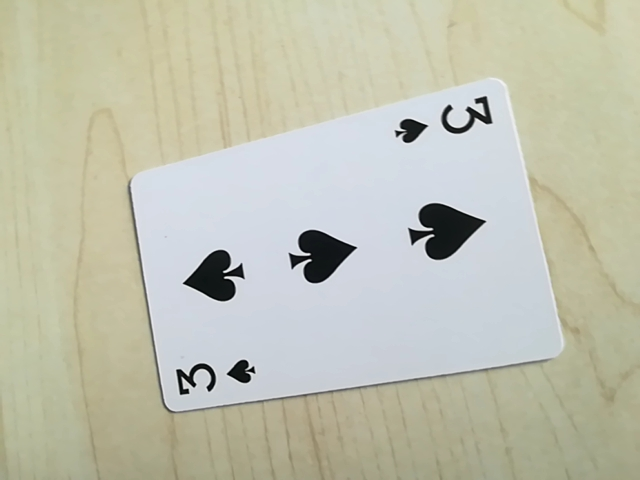ht 3: (390, 94, 498, 149), (168, 353, 262, 403)
